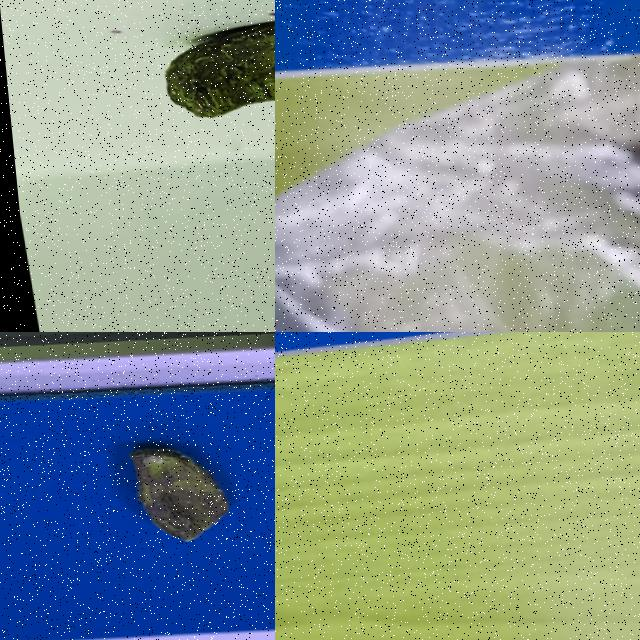Flat_cocoabeans: (28, 412, 267, 584), (121, 0, 274, 155)
